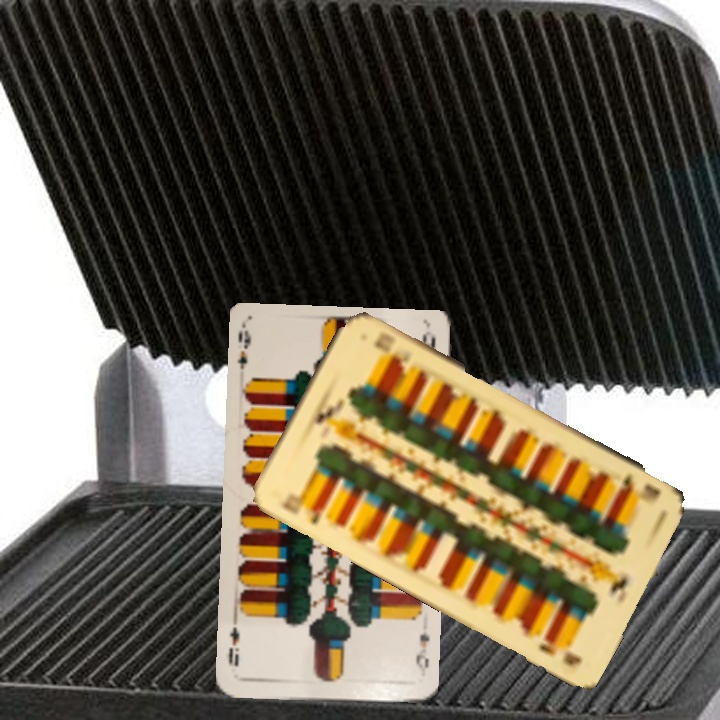E10: (616, 468, 663, 504), (277, 500, 325, 528)
E9: (411, 628, 432, 679), (233, 326, 254, 372)
